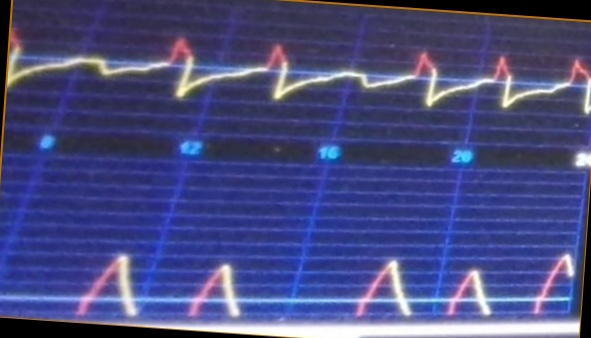Ineffective_effort Flow: (10, 22, 591, 119)
Ineffective_effort Volume: (61, 231, 575, 318)
